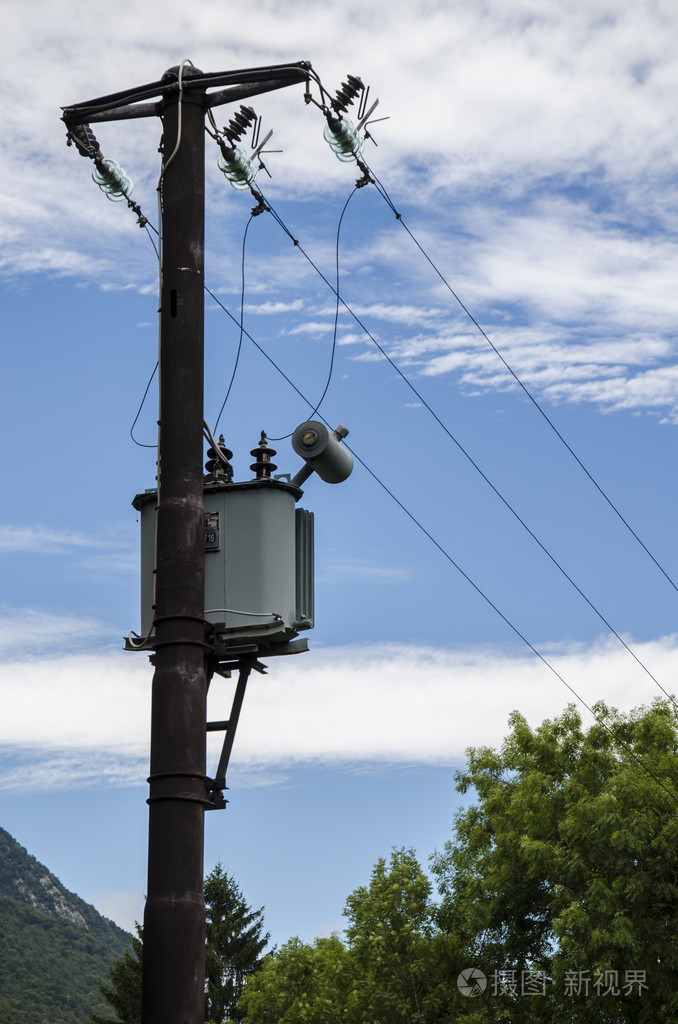insulator: (212, 148, 254, 191), (91, 156, 131, 201), (325, 121, 365, 163), (334, 73, 366, 112), (228, 105, 257, 143), (206, 445, 236, 474), (248, 446, 279, 474)
